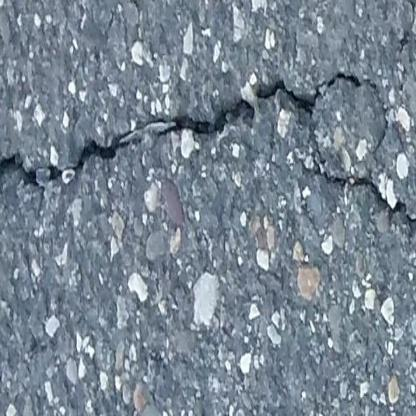Cracks: (0, 75, 416, 242)
